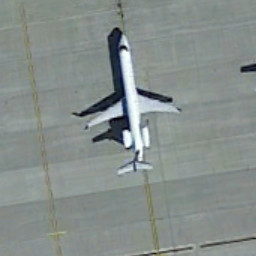Airplane: (70, 14, 190, 177)
